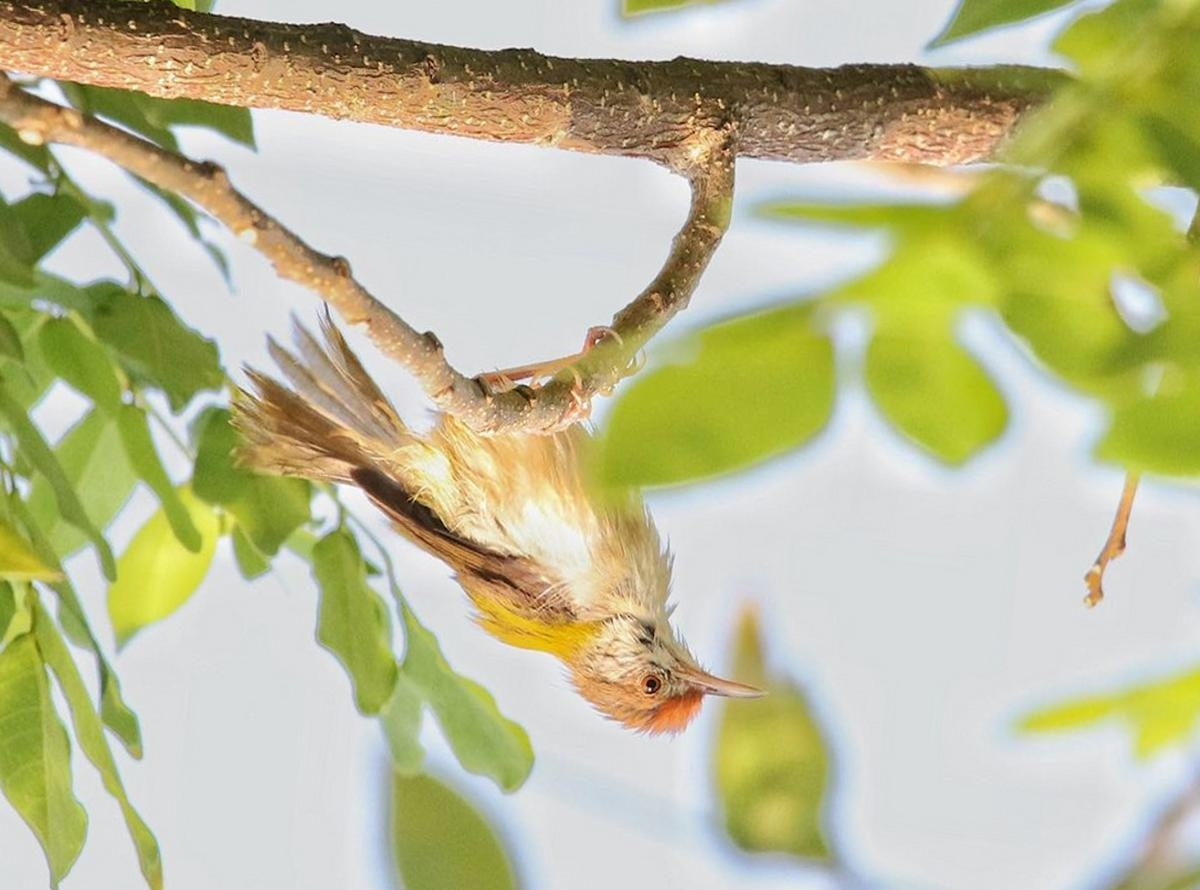tailorbird: (240, 302, 780, 775)
